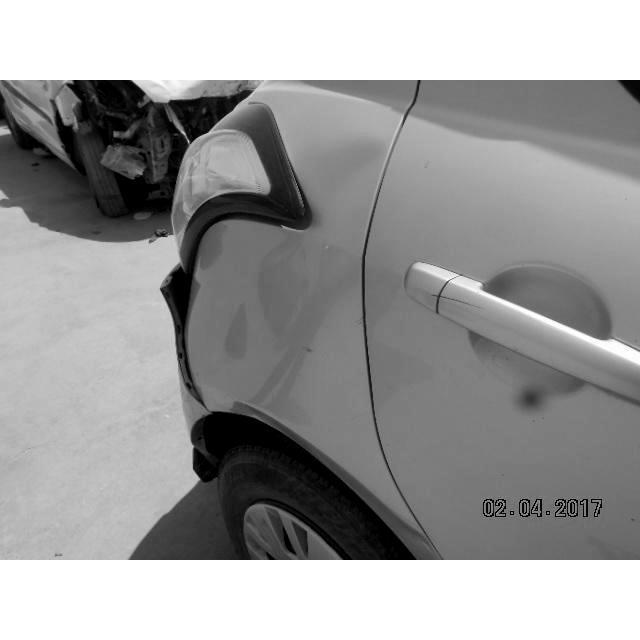doorouter-dent: (360, 85, 640, 559)
rear-bumper-dent: (145, 226, 362, 536)
